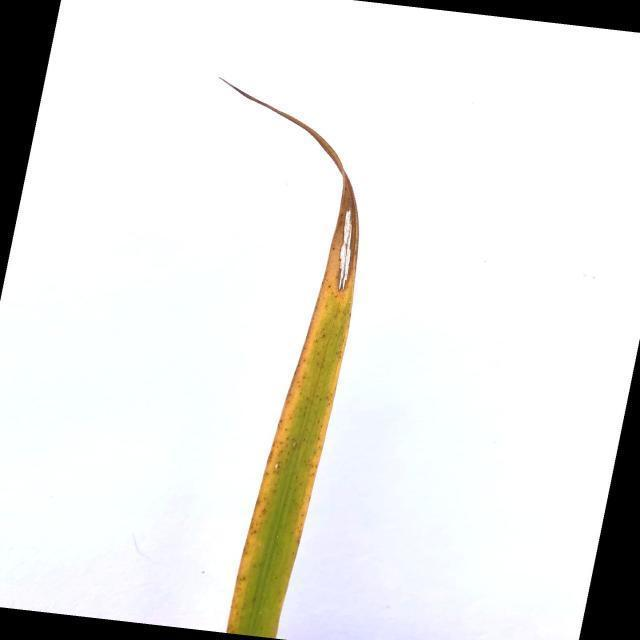Rice Tungro: (227, 117, 361, 635)
